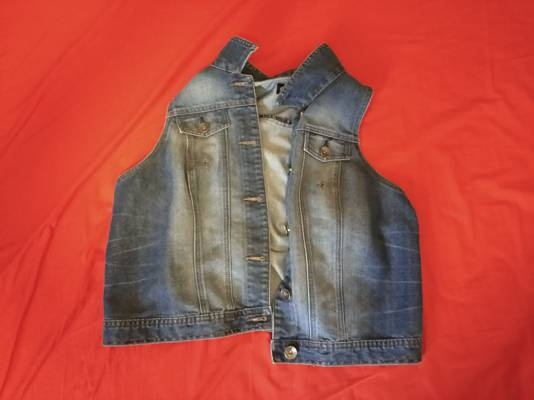Blazer: (87, 24, 449, 369)
